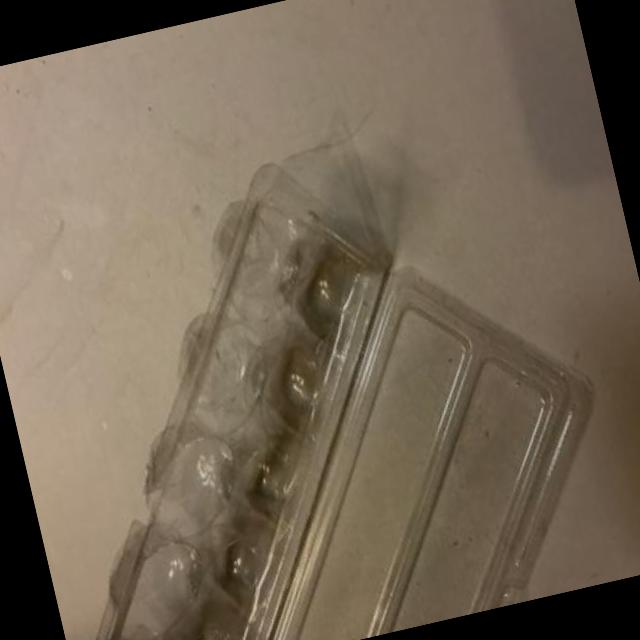Trash: (0, 101, 631, 640)
